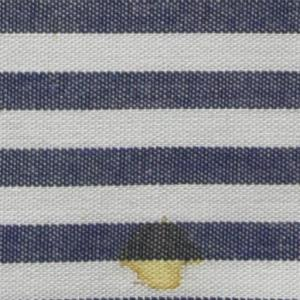Oil Stain: (114, 214, 206, 293)
